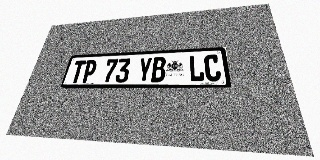3: (114, 58, 131, 83)
7: (102, 59, 118, 83)
B: (151, 57, 166, 82)
C: (204, 54, 222, 81)
L: (189, 55, 205, 82)
P: (81, 60, 98, 83)
T: (69, 60, 86, 83)
Y: (137, 57, 152, 82)
